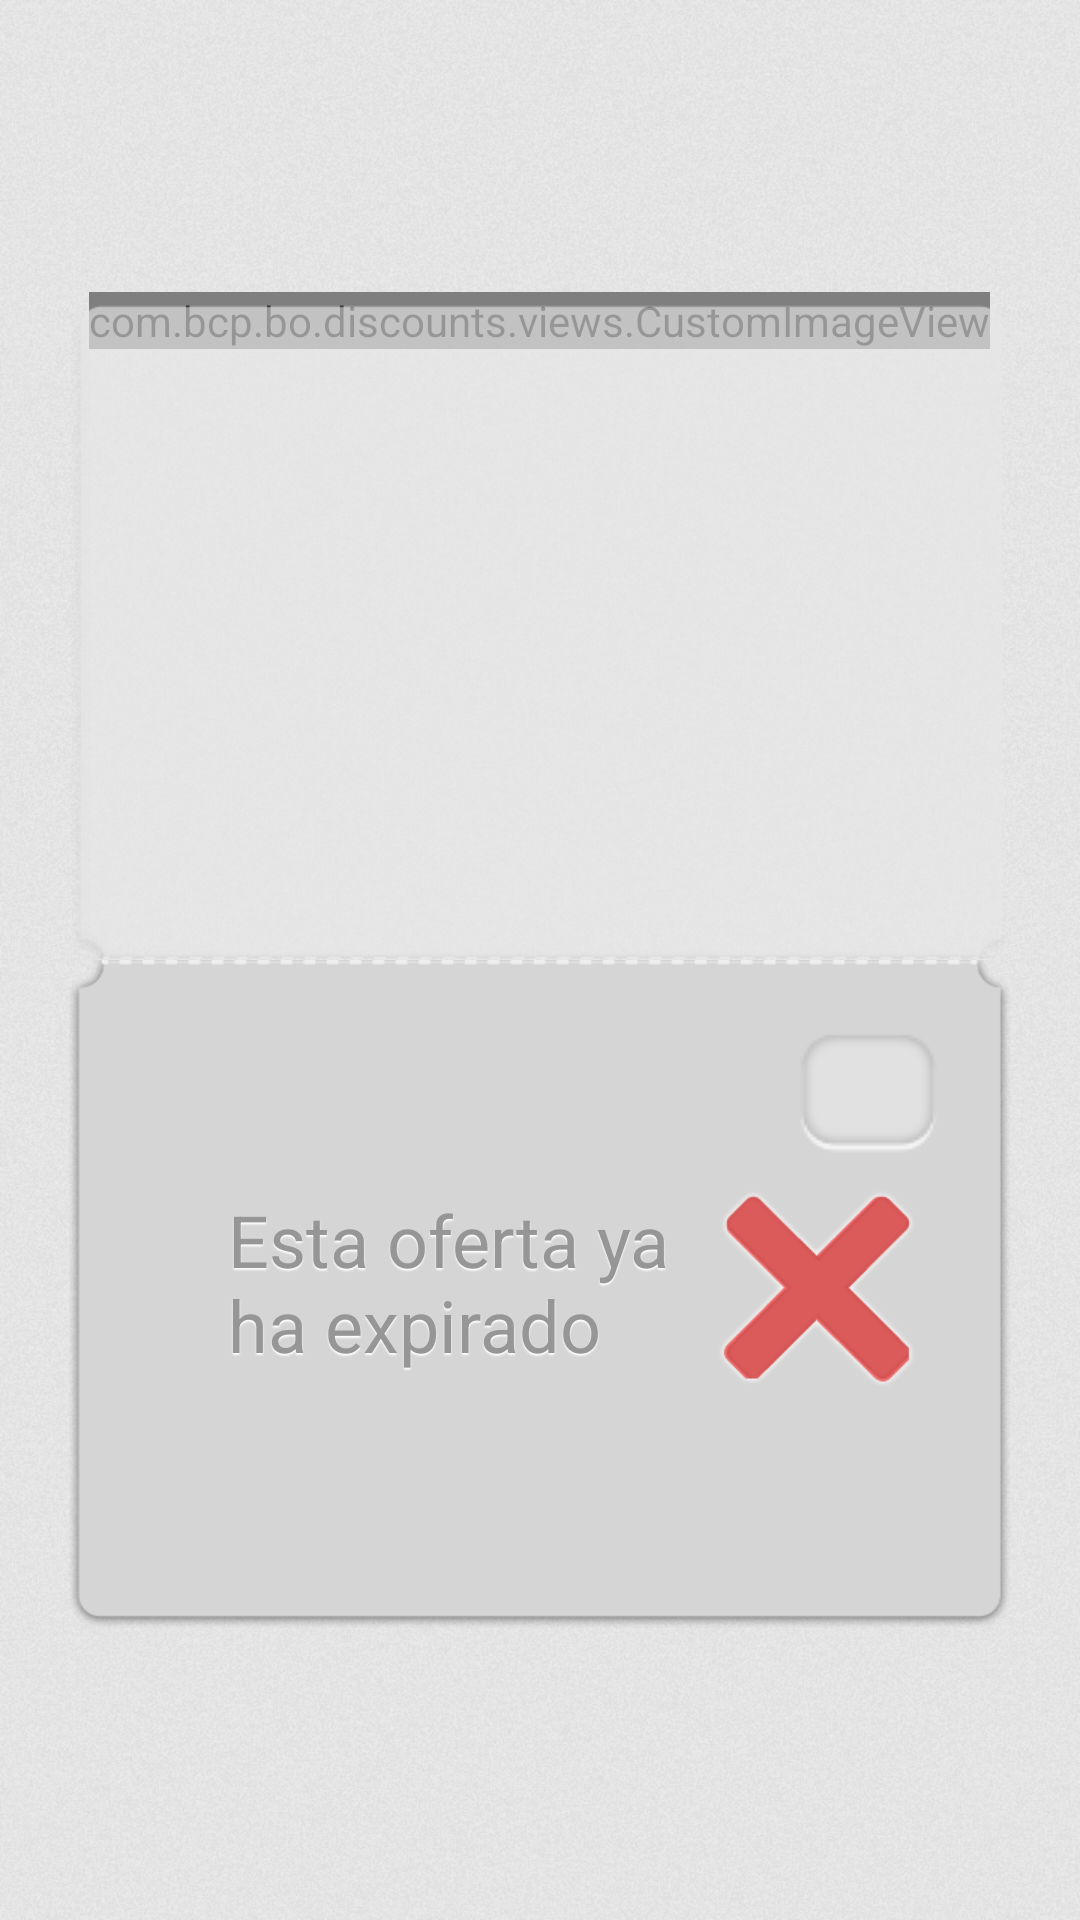

Icons on this 1080x1920 Android screen, each with the point to tap as point (x, y):
dsc list check expired: point (817, 1289)
